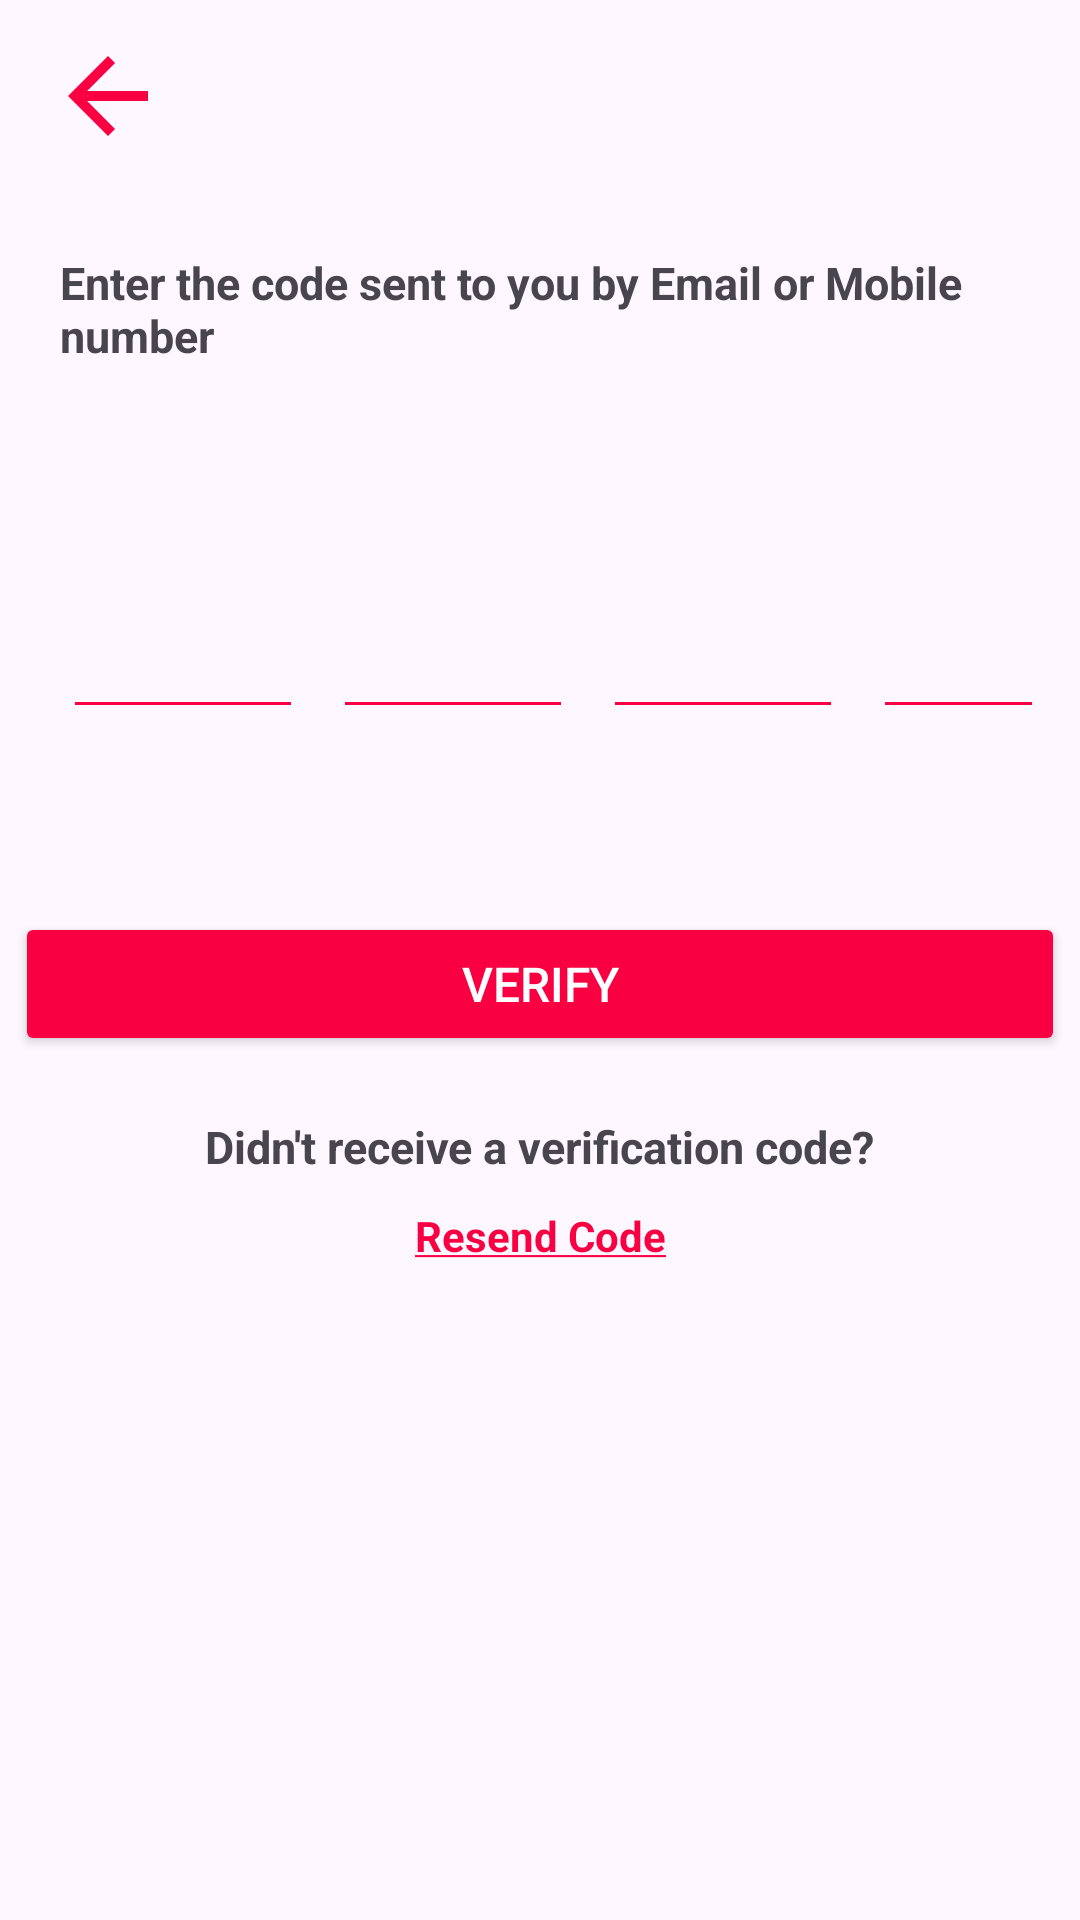

Icon bounding boxes for this 1080w x 1920h phone screenshot, format [left=x1, top=y1, right=x2, bottom=y2]:
back: [left=68, top=56, right=148, bottom=136]
